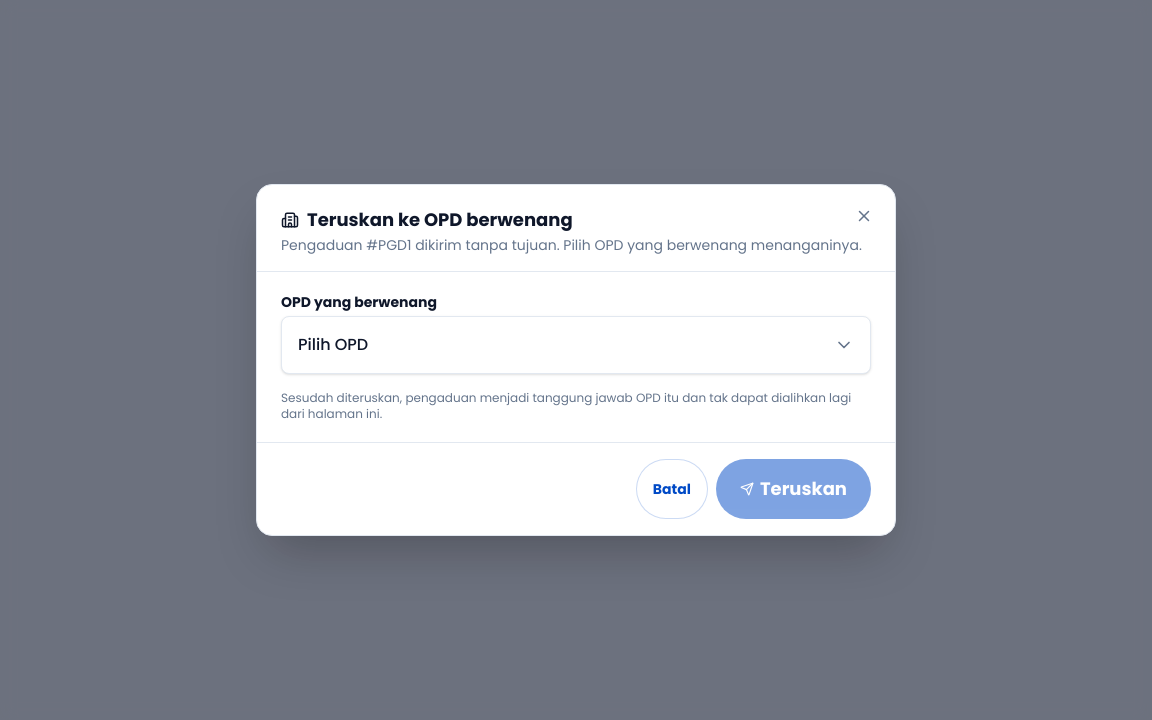
ForwardComplaintModal › menampilkan galat dari server, tanpa menutup modal
The image size is (1152, 720).
Click the button named "opd yang berwenang" at (333,345), box [281,316,871,374]
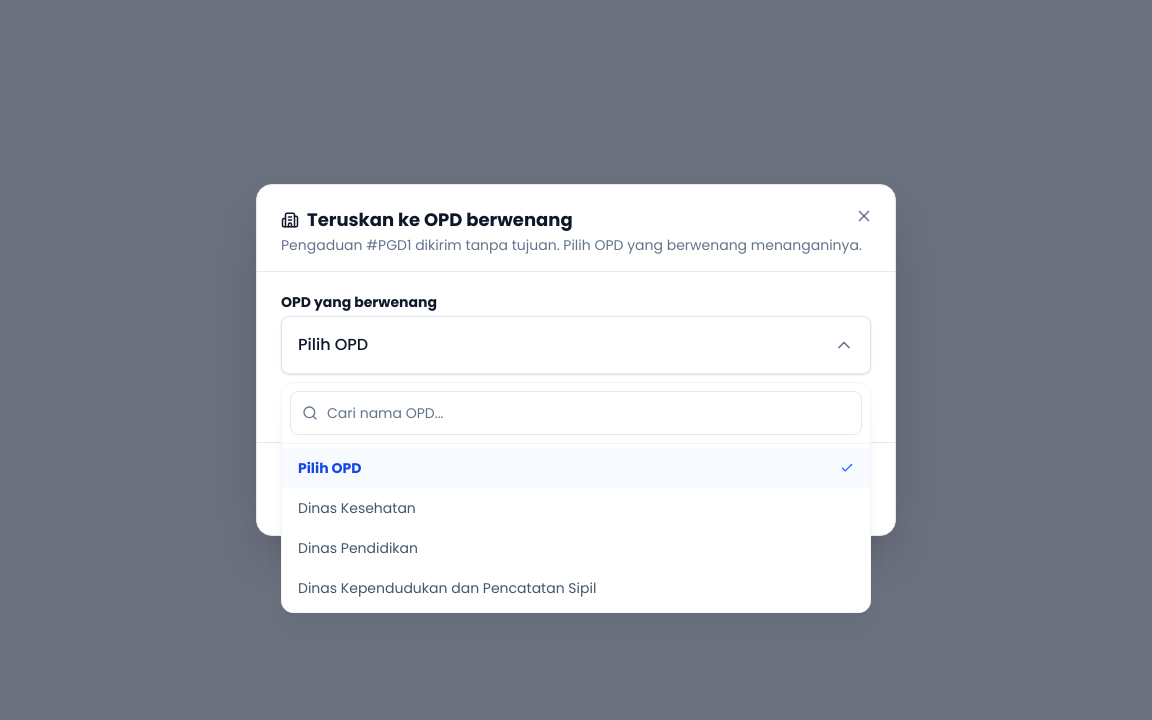
Click the button "Dinas Kesehatan" at (357,508), box [282,488,870,528]
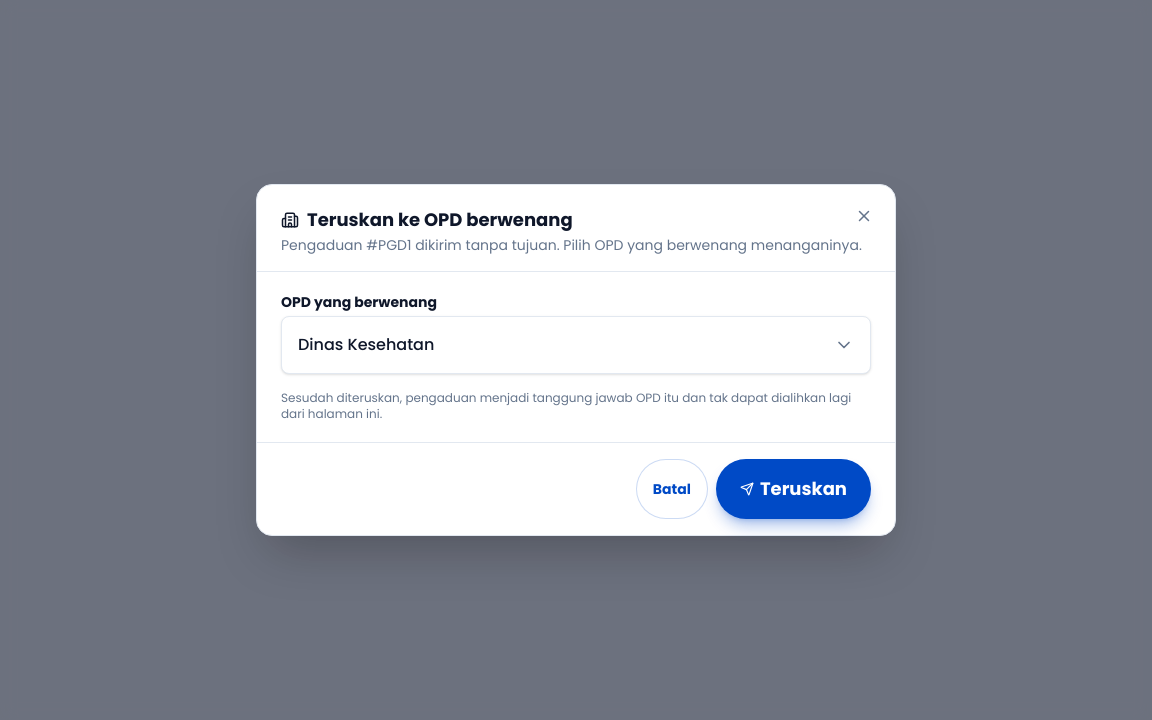
Click the button "Teruskan" at (793,489), box [716,459,871,519]
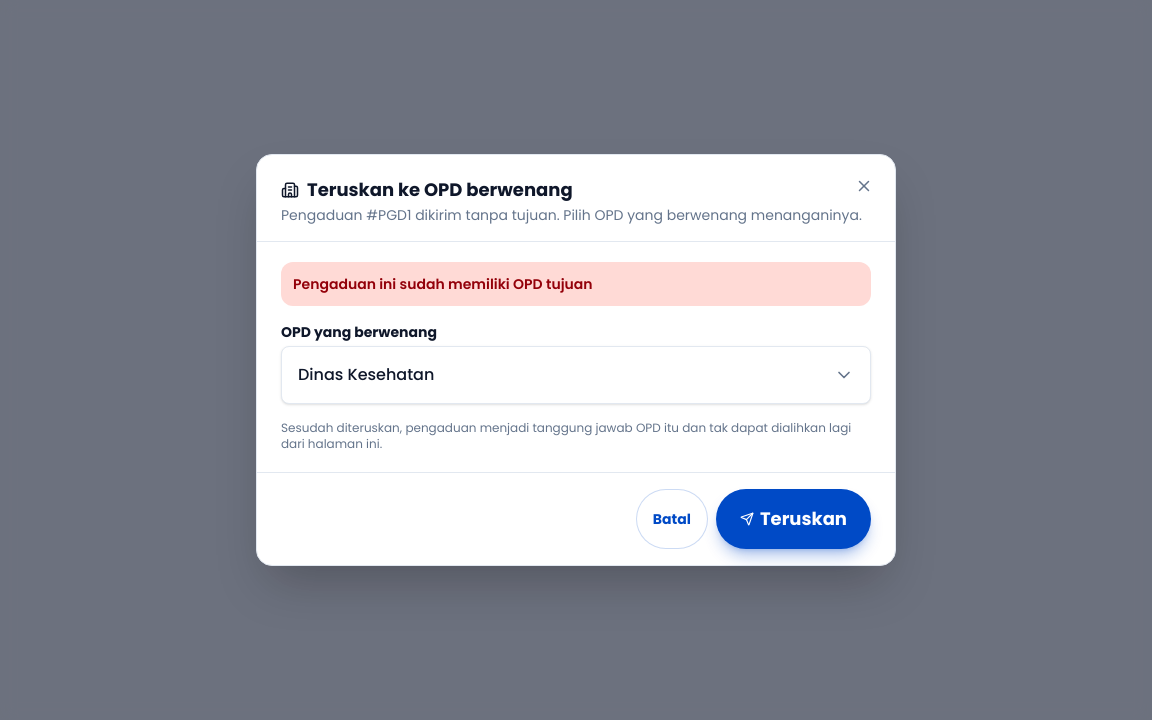
Expected: the text "Pengaduan ini sudah memiliki OPD tujuan" is shown, [281,262,871,306]
